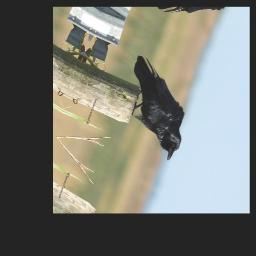Crow: (108, 52, 203, 164)
